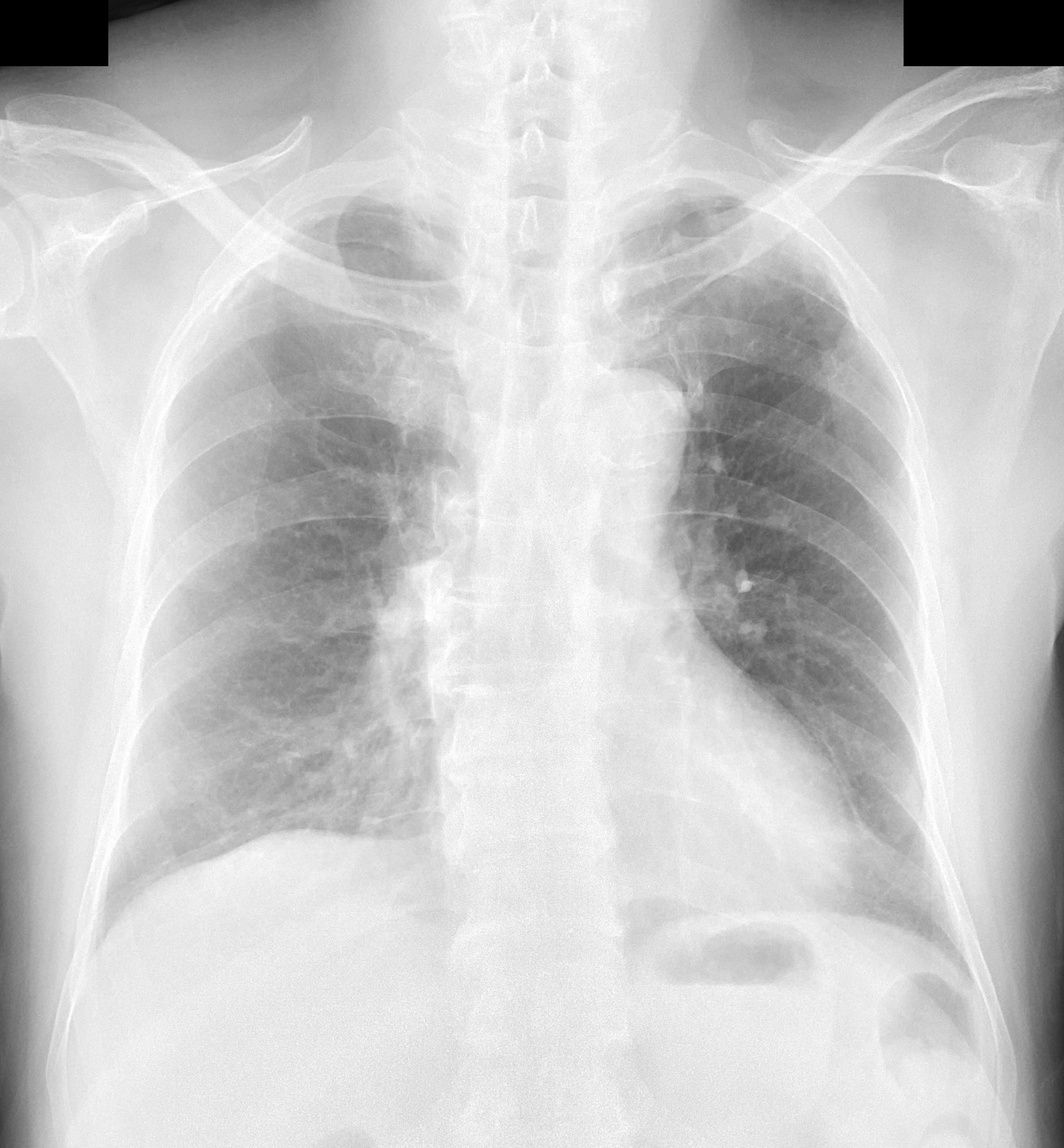Aortic enlargement: (537, 362, 693, 518)
Cardiomegaly: (432, 720, 868, 912)
Pleural thickening: (250, 184, 407, 224), (622, 202, 739, 230)
